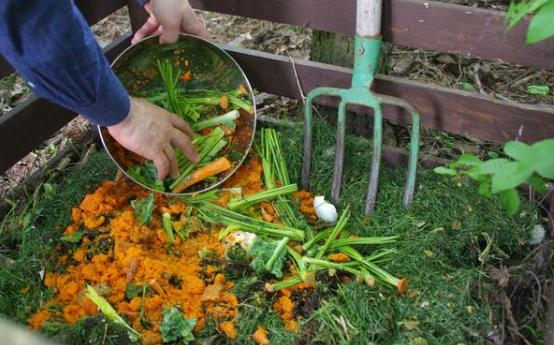organic: (484, 249, 554, 342), (163, 127, 228, 189), (474, 59, 553, 104), (332, 246, 408, 292), (393, 49, 470, 88), (302, 205, 351, 257), (158, 57, 192, 124), (257, 127, 291, 192), (286, 49, 309, 117), (272, 196, 308, 234), (195, 110, 240, 130), (126, 165, 160, 190), (179, 88, 237, 101), (267, 274, 306, 292), (168, 209, 188, 241), (476, 233, 493, 265), (142, 193, 156, 224), (139, 285, 149, 325), (218, 222, 238, 241)
